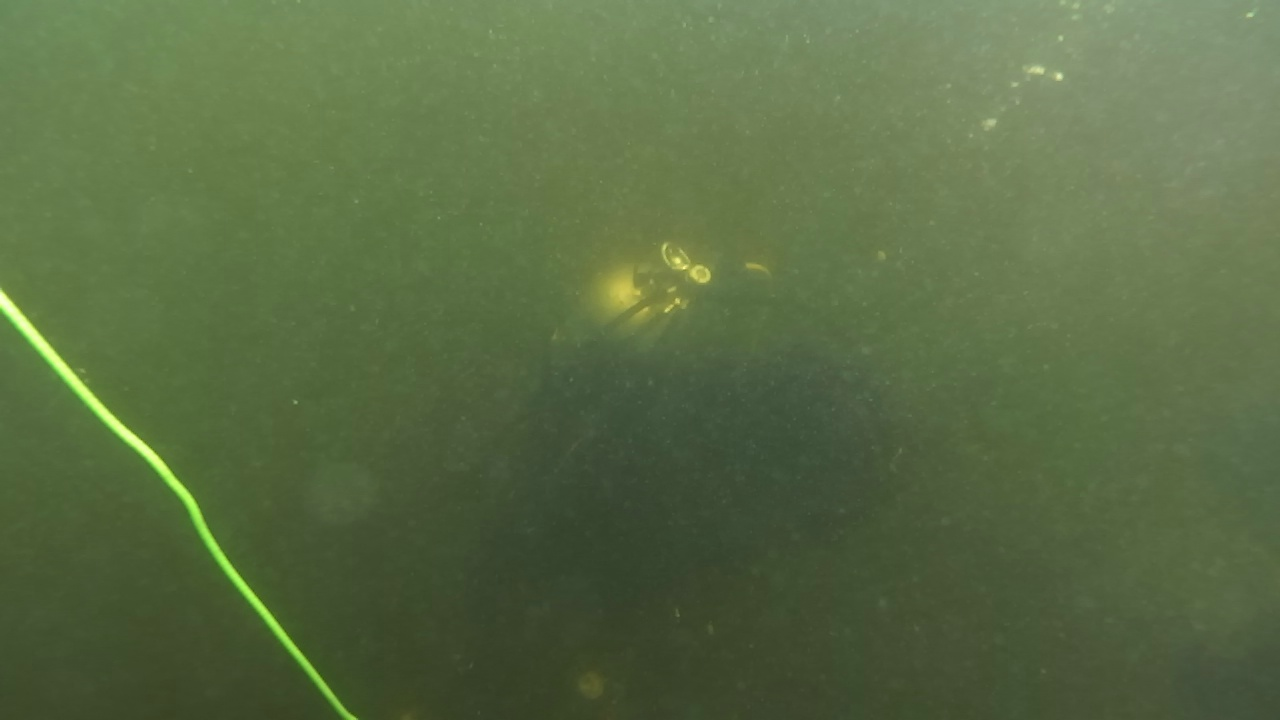Diver: (388, 210, 962, 670)
